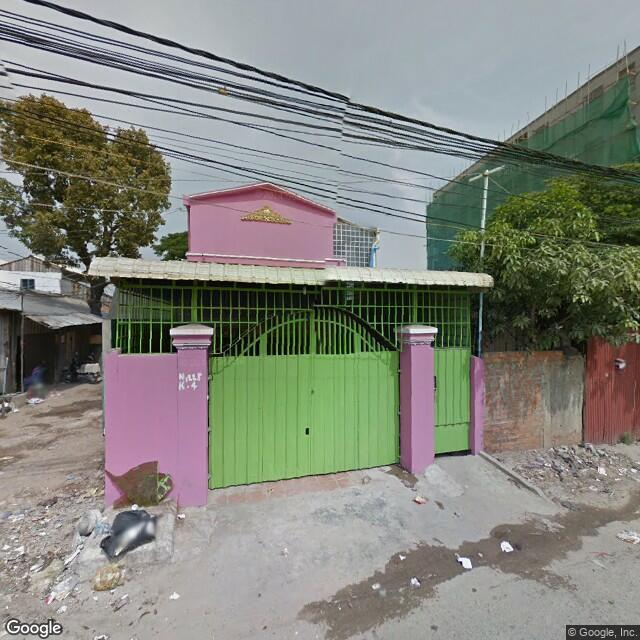litter: (106, 507, 162, 558), (26, 553, 75, 603), (91, 568, 135, 589), (595, 461, 614, 488), (455, 550, 473, 573), (412, 493, 430, 508), (496, 542, 514, 555), (410, 570, 419, 588)
